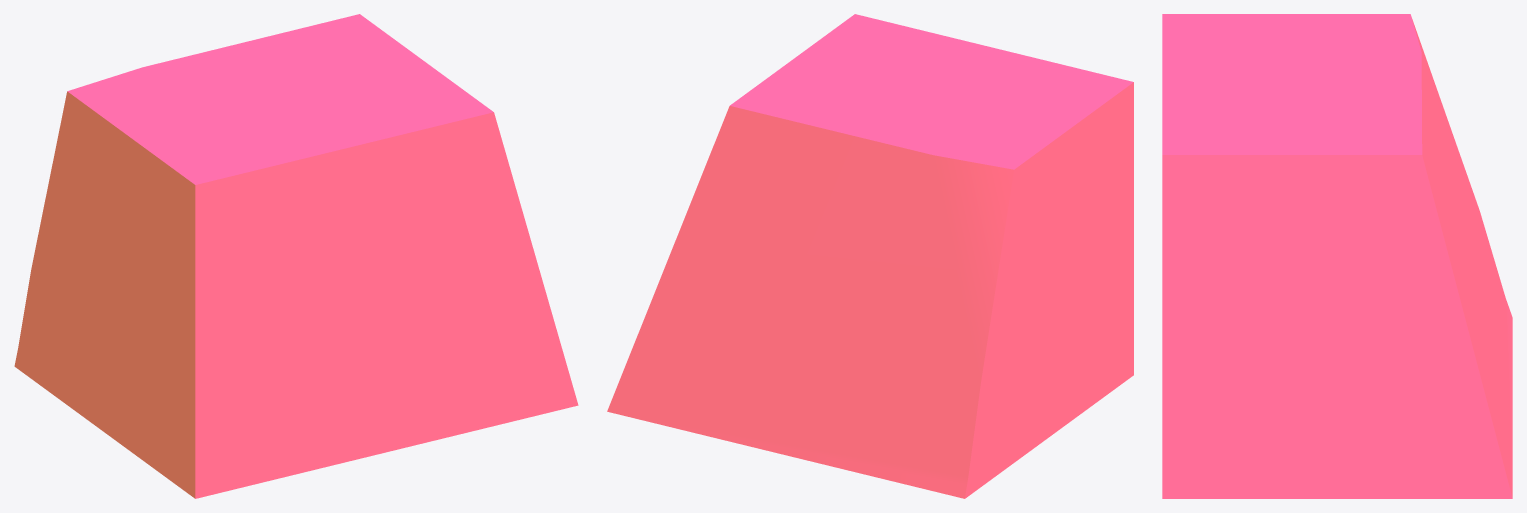
Rendered from chunk-p5.fbx.
3 views of the same model, side by side, from view 1: azimuth 30°, elevation 25°; view 2: azimuth 150°, elevation 25°; view 3: azimuth 270°, elevation 25° (orthographic). The views are drawn at different scales.
Visible parts, largest first — view 1: pCube15; view 2: pCube15; view 3: pCube15.
Part boxes in pixels (x1,y1,x2,y2): pCube15: [14, 14, 578, 498]; pCube15: [607, 14, 1133, 498]; pCube15: [1162, 14, 1512, 498].
Size of the model in its own units: 5.5 by 4.31 by 4.5.
